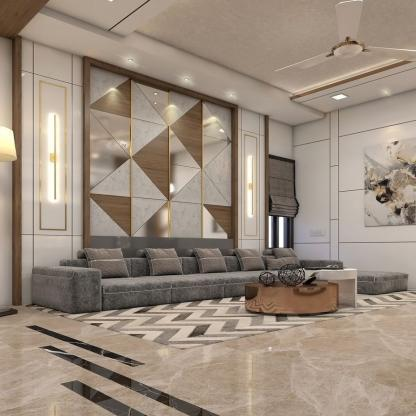Wall Panel: (2, 37, 322, 314)
